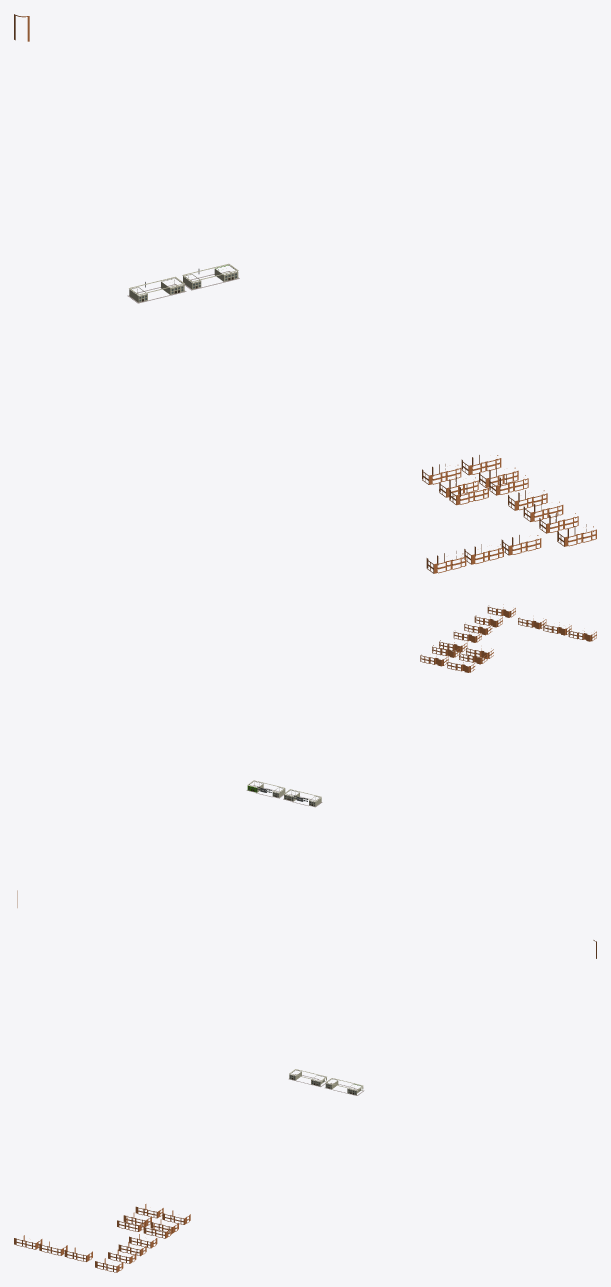
Rendered from NoLod_19.glb.
3 views of the same model, one above another, from view 1: azimuth 30°, elevation 25°; view 2: azimuth 150°, elevation 25°; view 3: azimuth 330°, elevation 25° (orthographic). The views are drawn at different scales.
Visible parts, largest first — view 1: rtc; view 2: rtc; view 3: rtc.
Boxes of the visible parts, <box> form: rtc: <box>14,14,596,573</box>; rtc: <box>17,604,596,907</box>; rtc: <box>14,940,596,1272</box>.
Bounding box in the file's own units: 331 × 55 × 1619.
Materials: 7 (7 with a texture image).
